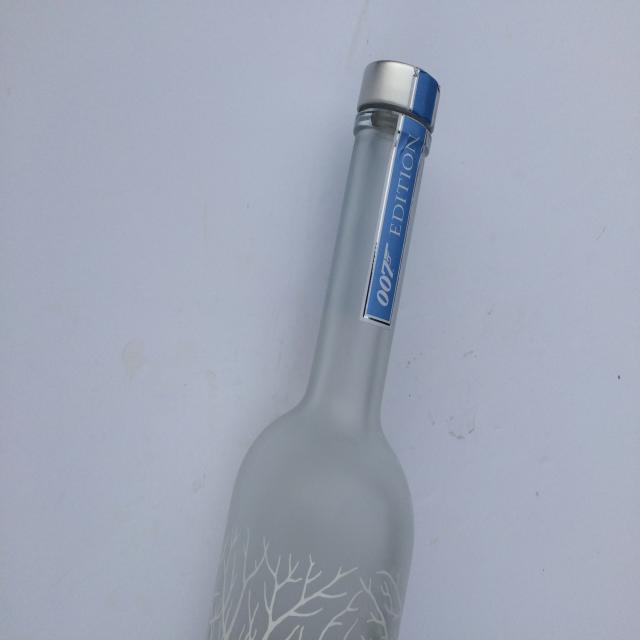glass: (208, 61, 442, 640)
